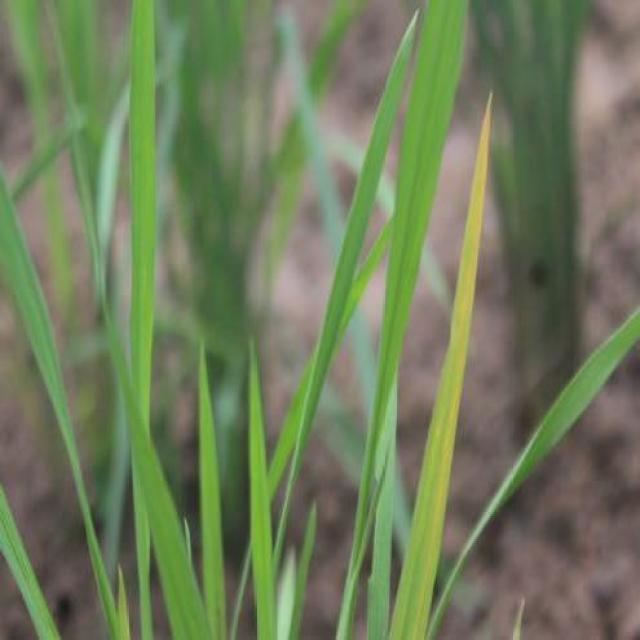Rice Tungro: (466, 76, 491, 301)
